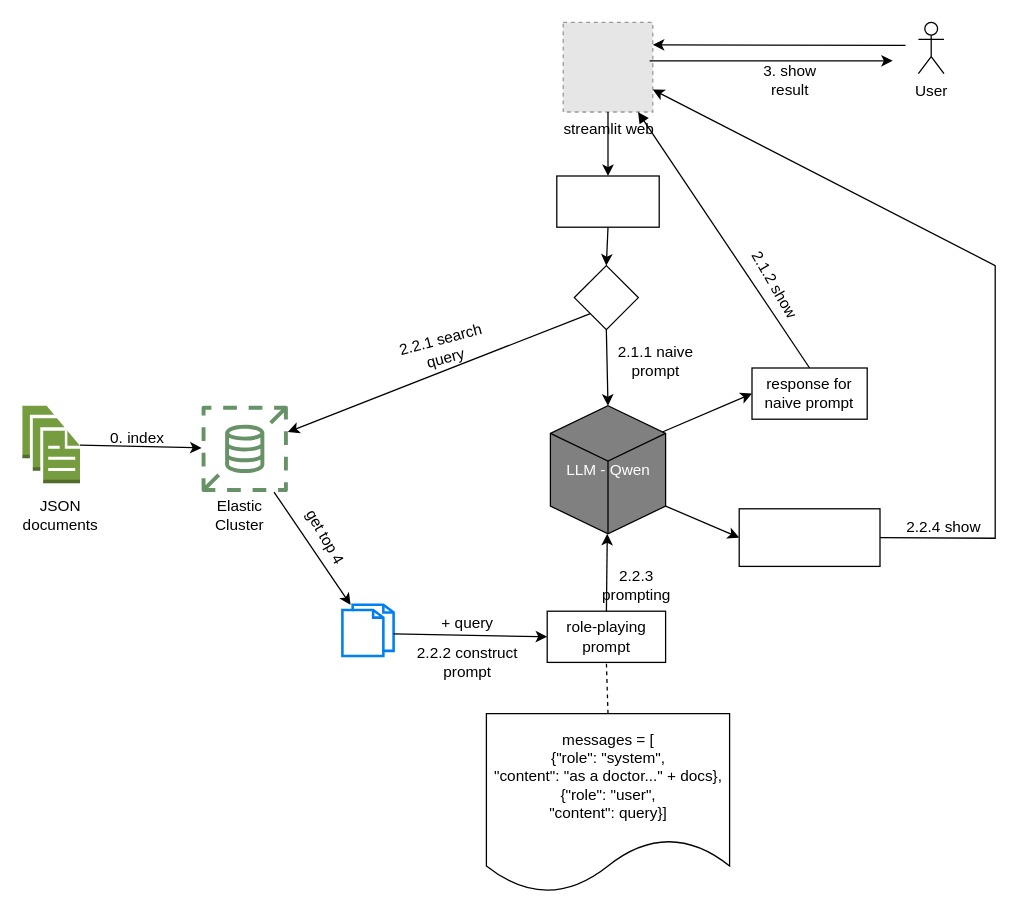
Some shapes in this 1028 by 915 pixel diagram are drawn without their labels. Grey dashed boxes stand in for pictures. Each missing label, with the box of its shape:
query: (556, 175, 659, 227)
response for retrieval augmented prompt: (738, 508, 880, 566)
retrieved docs: (340, 603, 394, 657)
